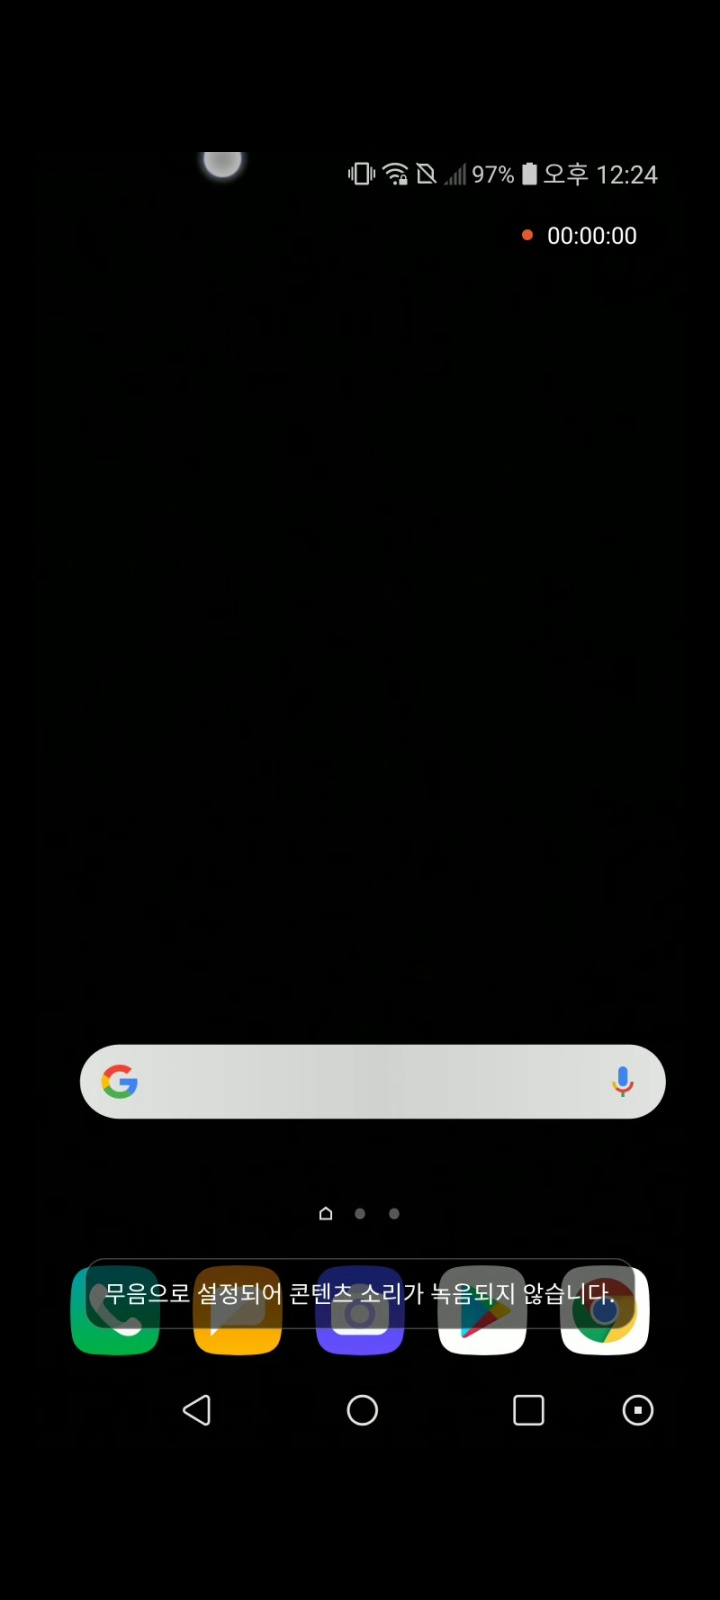Cursor: (200, 153, 245, 185)
